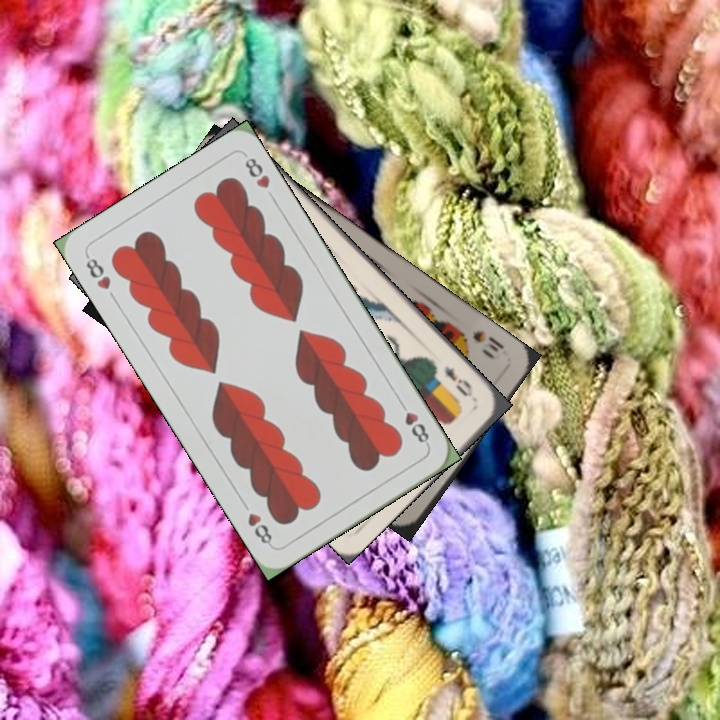EO: (440, 362, 479, 404)
H8: (394, 396, 432, 449), (81, 251, 114, 293)
S10: (468, 326, 507, 363)
